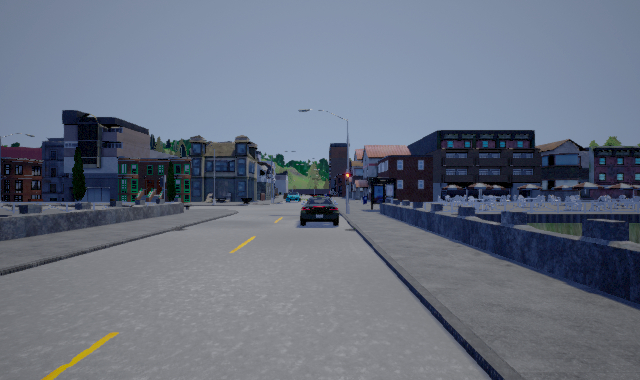traffic_light: (344, 171, 351, 186)
vehicle: (300, 195, 339, 226), (285, 190, 301, 204)
